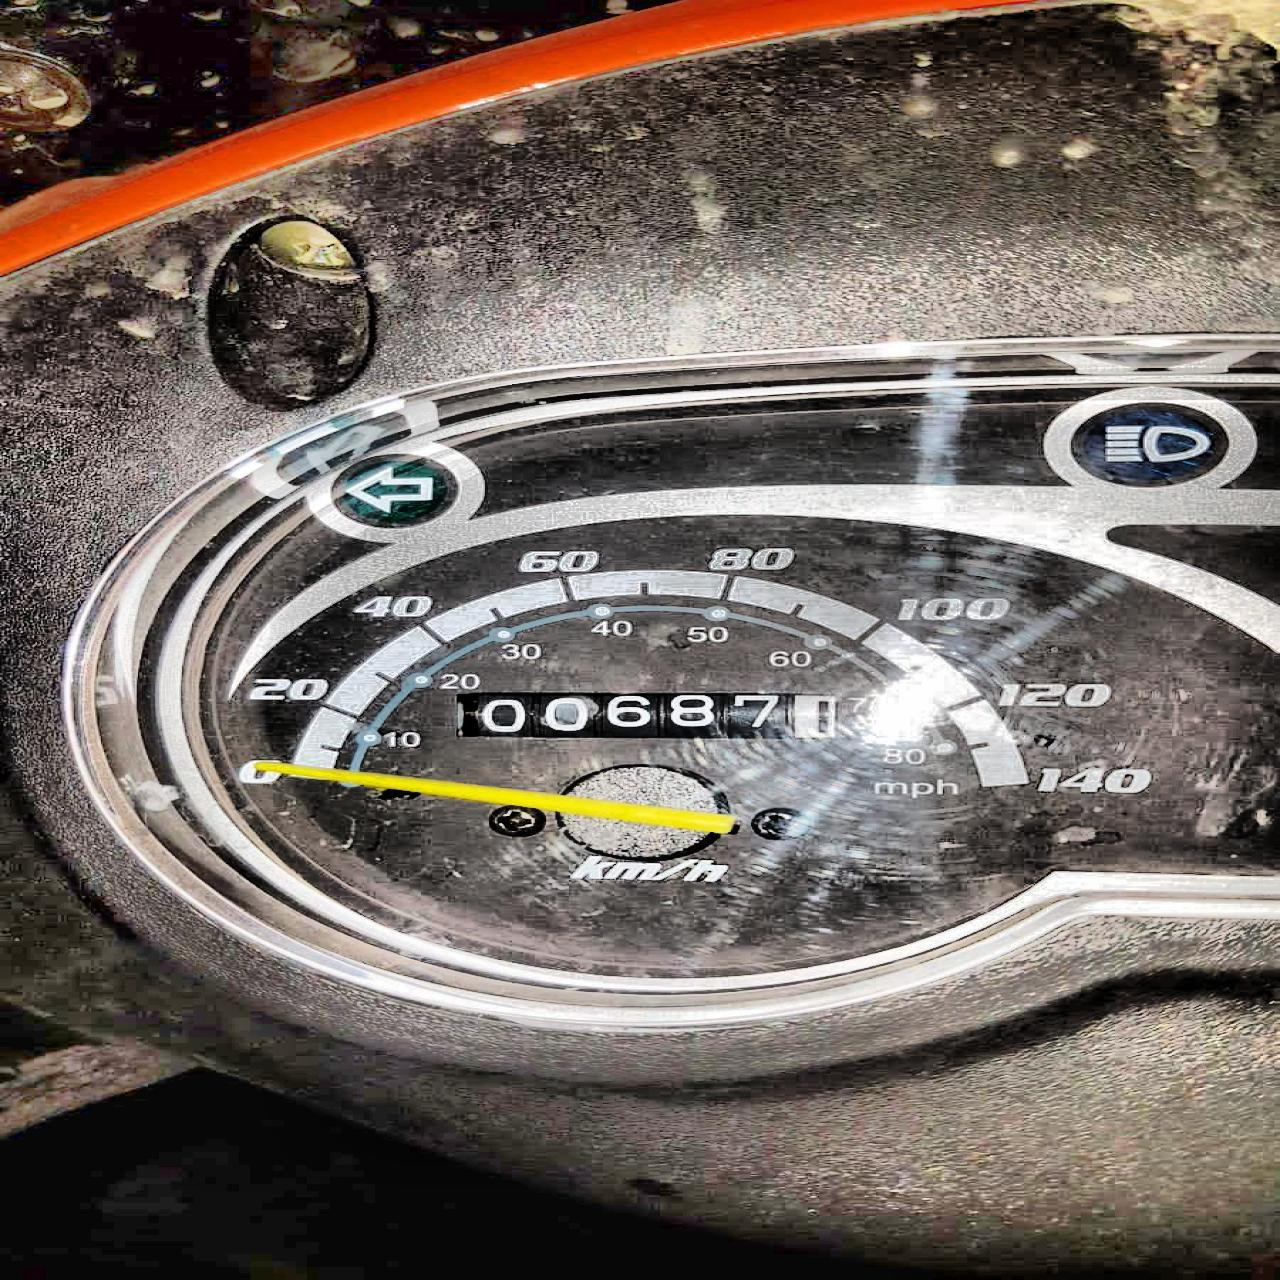0: (542, 696, 588, 731), (479, 699, 525, 731)
1: (813, 696, 829, 733)
6: (606, 694, 652, 728)
7: (730, 694, 779, 727)
8: (668, 693, 714, 727)
odometer: (451, 689, 840, 741)
